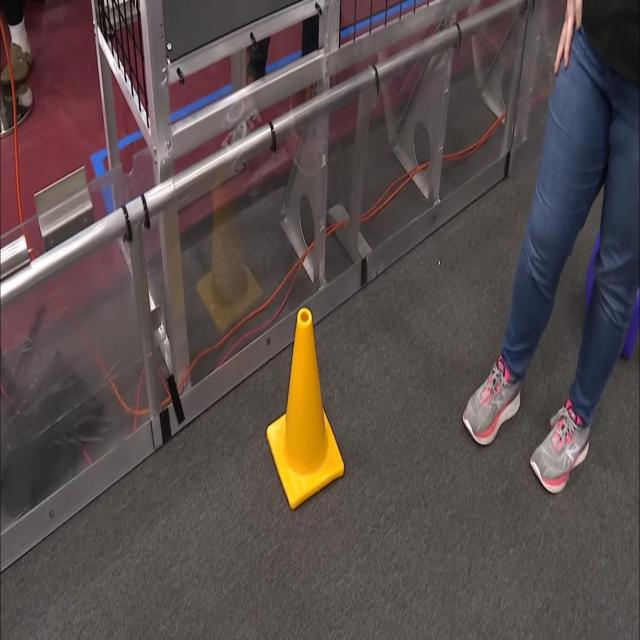frc_cone: (264, 307, 342, 509)
